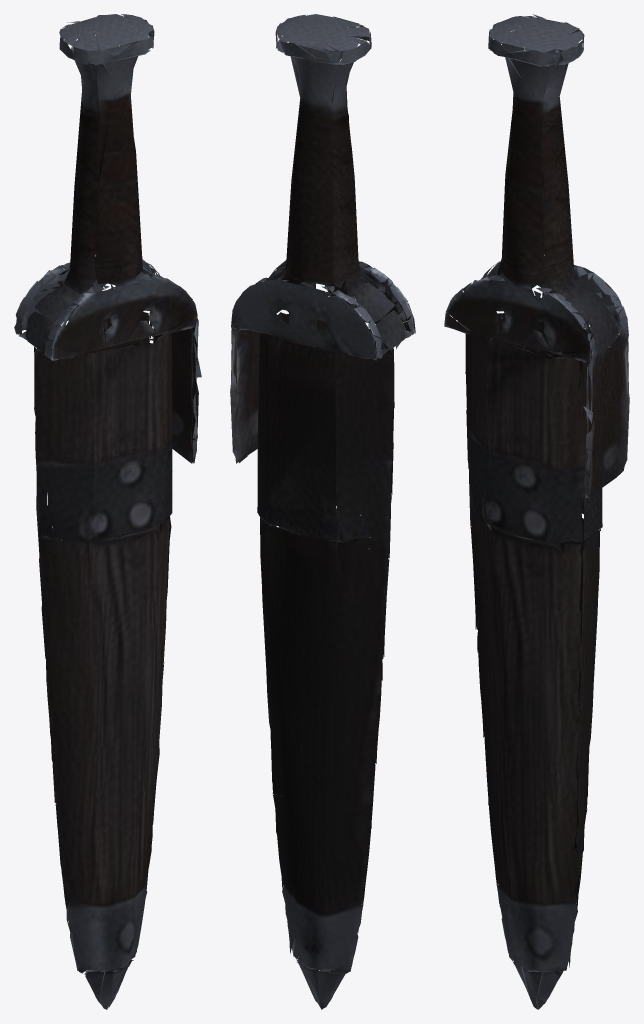
File: scabbard.glb
3 renders of one model, left to right at view 1: azimuth 30°, elevation 25°; view 2: azimuth 150°, elevation 25°; view 3: azimuth 330°, elevation 25°, orthographic.
Parts seen in each view (by area): view 1: Scabbard; view 2: Scabbard; view 3: Scabbard.
Part boxes in pixels (<box>): Scabbard: <box>14,14,201,1009</box>; Scabbard: <box>230,14,415,1009</box>; Scabbard: <box>444,14,629,1009</box>.
Bounding box in the file's own units: 0.1356 × 0.8504 × 0.0651.
Materials: 1 (1 with a texture image).
